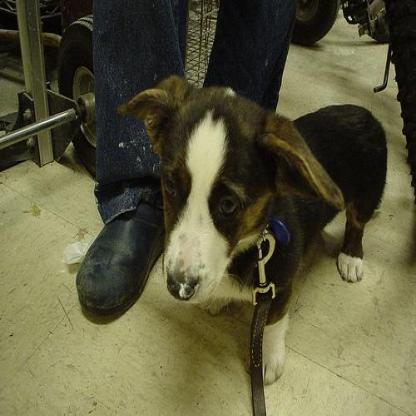Cardigan: (114, 72, 390, 387)
